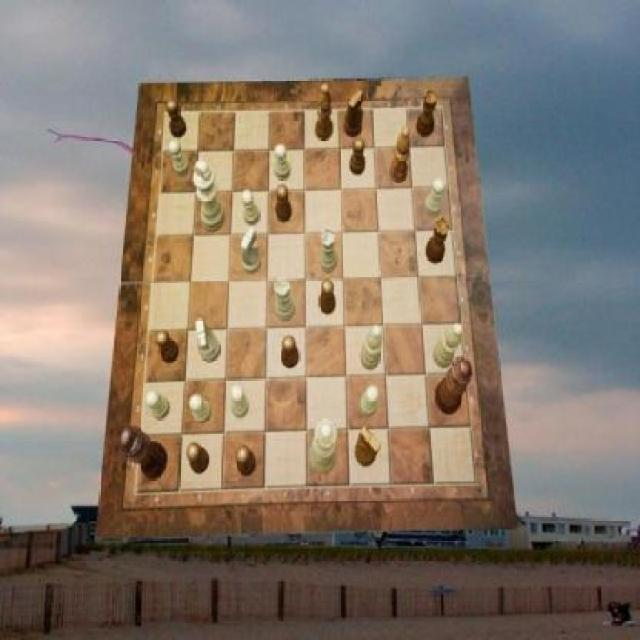bishop: (391, 126, 412, 184), (315, 83, 333, 141)
black-bishop: (120, 425, 169, 479)
black-king: (356, 425, 382, 466), (344, 91, 364, 138)
black-knight: (156, 330, 180, 364), (168, 100, 188, 138), (188, 441, 210, 474), (237, 445, 257, 477), (320, 278, 337, 314), (350, 137, 366, 175), (276, 185, 292, 222), (282, 337, 300, 369)
black-pawn: (435, 357, 473, 415)
black-queen: (426, 217, 450, 263), (415, 91, 438, 138)
black-rook: (434, 323, 463, 369), (360, 325, 382, 370)
white-bishop: (194, 158, 226, 232)
white-king: (197, 318, 221, 361), (242, 226, 262, 274)
white-knight: (426, 178, 446, 217), (169, 139, 190, 176), (146, 391, 171, 420), (242, 190, 260, 226), (360, 384, 380, 416), (190, 394, 212, 423), (230, 385, 248, 419), (274, 144, 291, 180)
white-pawn: (310, 418, 338, 474)
white-queen: (318, 228, 338, 273), (276, 278, 296, 322)
